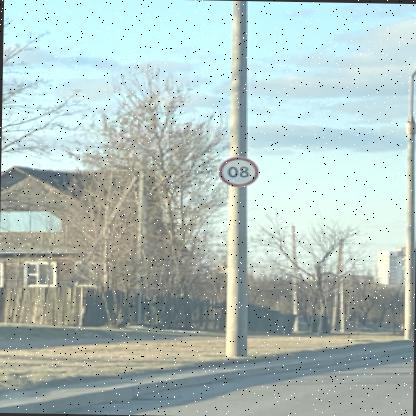speedlimit: (219, 155, 262, 187)
